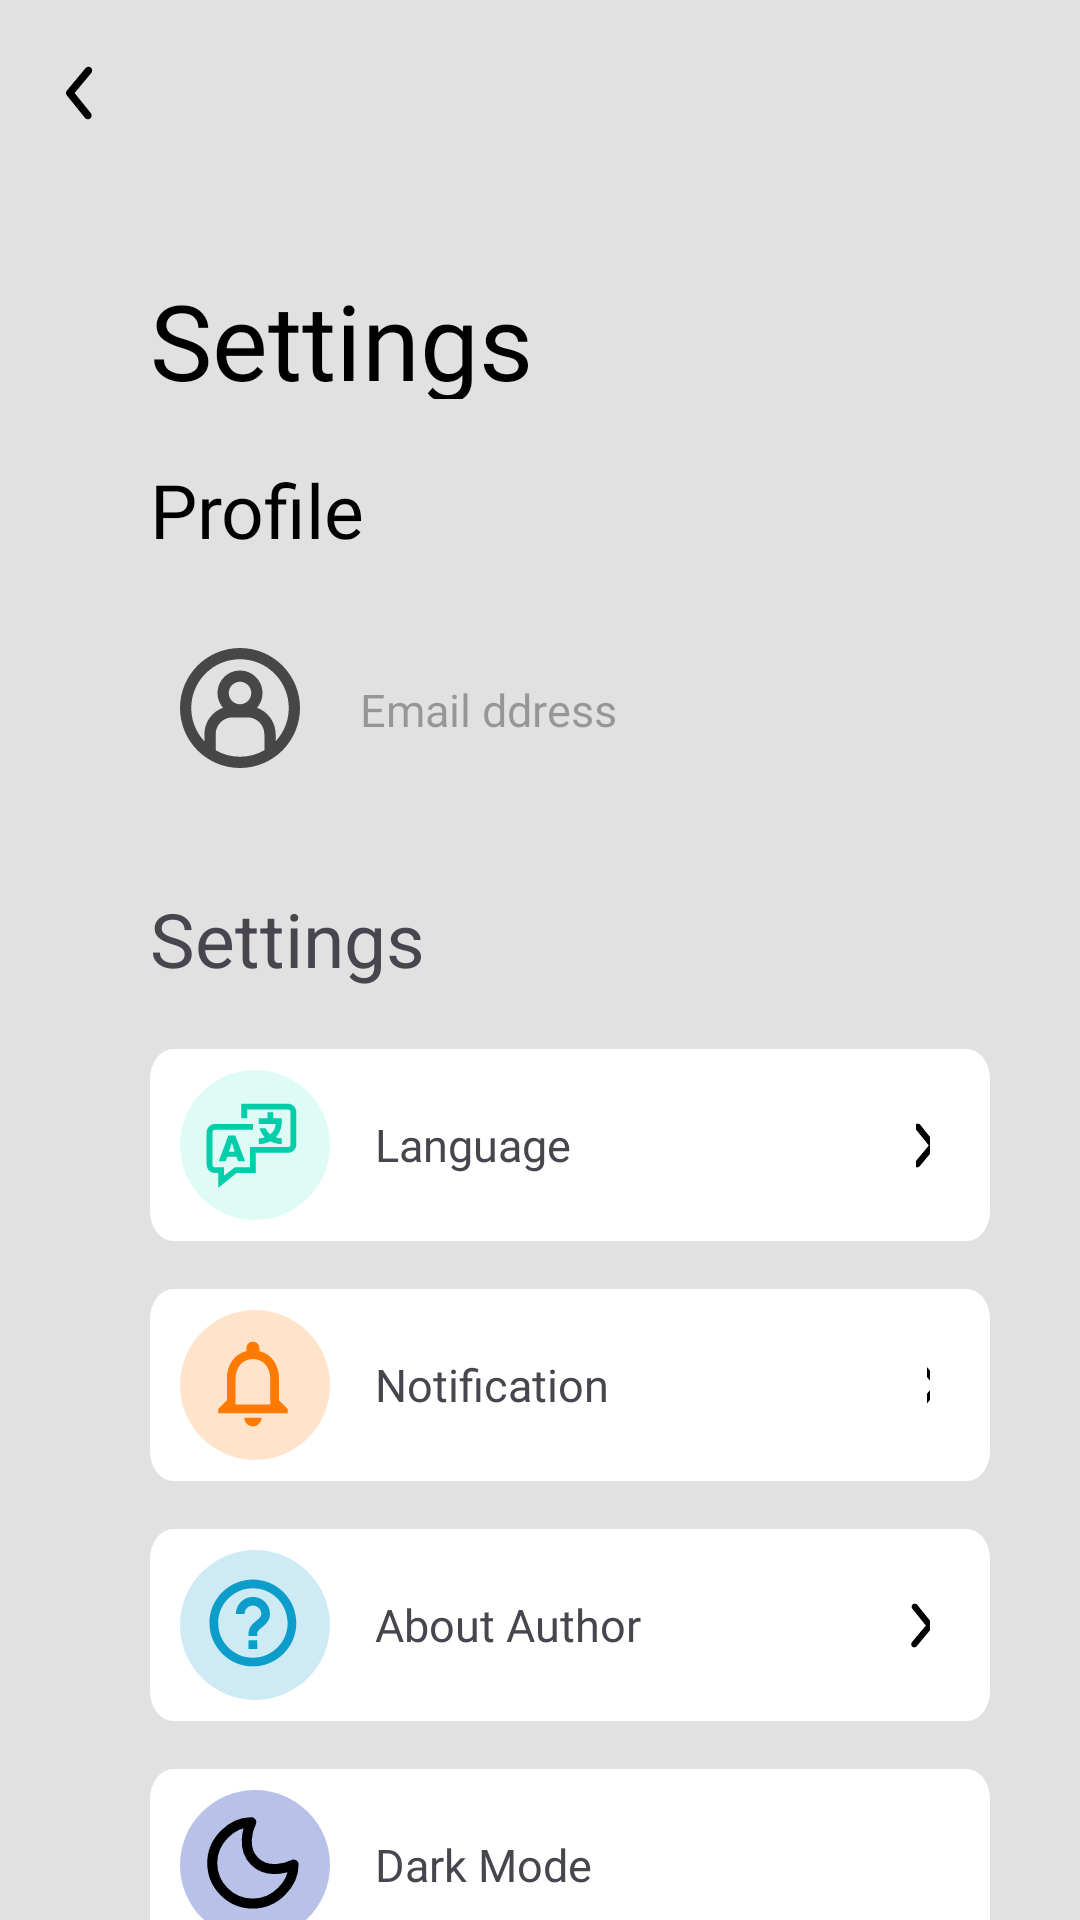

Icons on this 1080w x 1920h Android screen, each with its box as (x1, y1, x2, y2):
back: (66, 66, 93, 120)
help: (180, 1550, 330, 1700)
